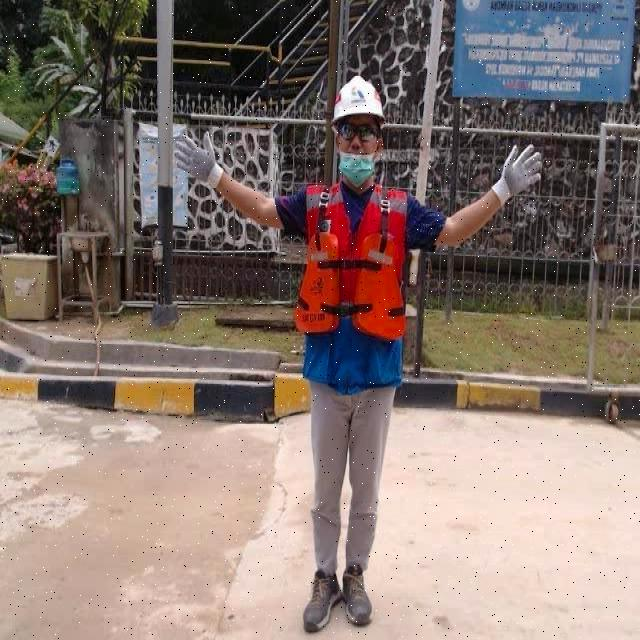Hard_hat: (329, 72, 390, 131)
Person: (173, 72, 545, 637)
Vest: (301, 190, 405, 345)
